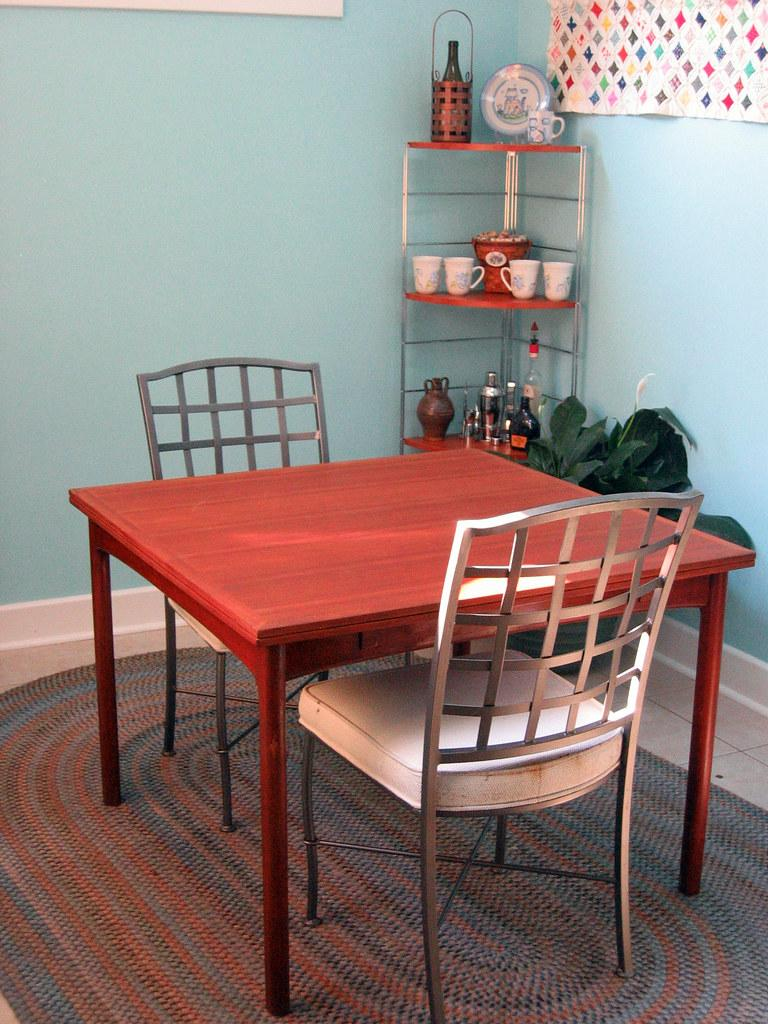table: (68, 443, 757, 1017)
